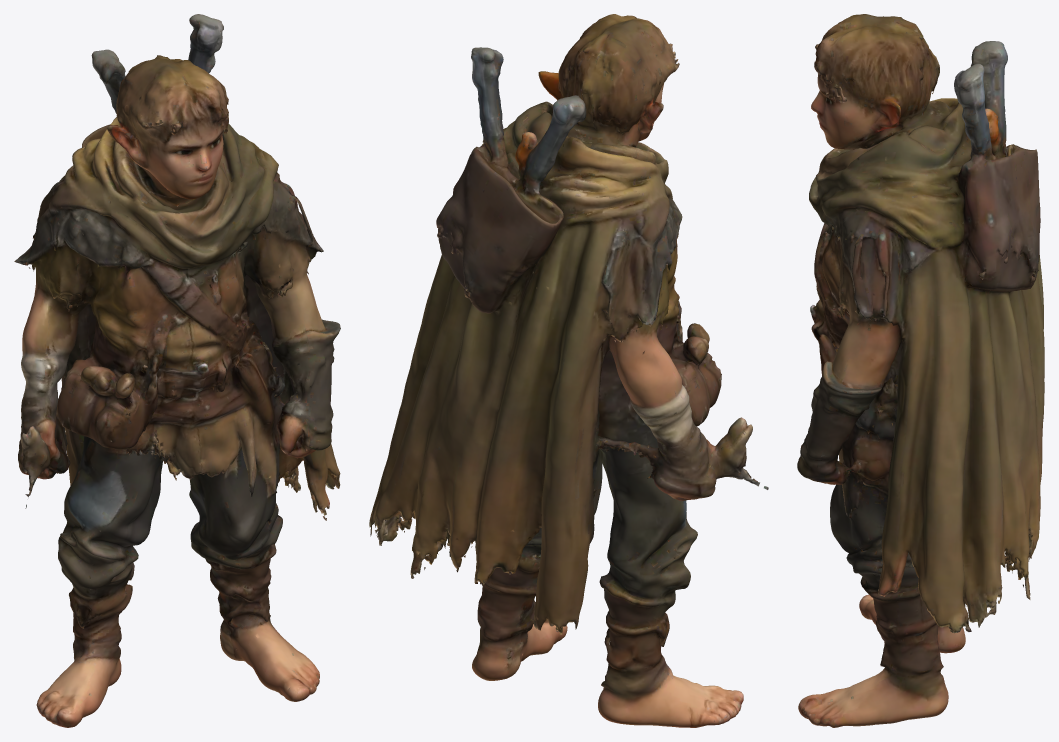
The model's file is halflingadventurer.glb.
3 views of the same model, side by side, from view 1: azimuth 30°, elevation 25°; view 2: azimuth 150°, elevation 25°; view 3: azimuth 270°, elevation 25° (orthographic). The views are drawn at different scales.
Bounding box in the file's own units: 1.13 × 1.99 × 0.6844.
1 material, 1 textured.
